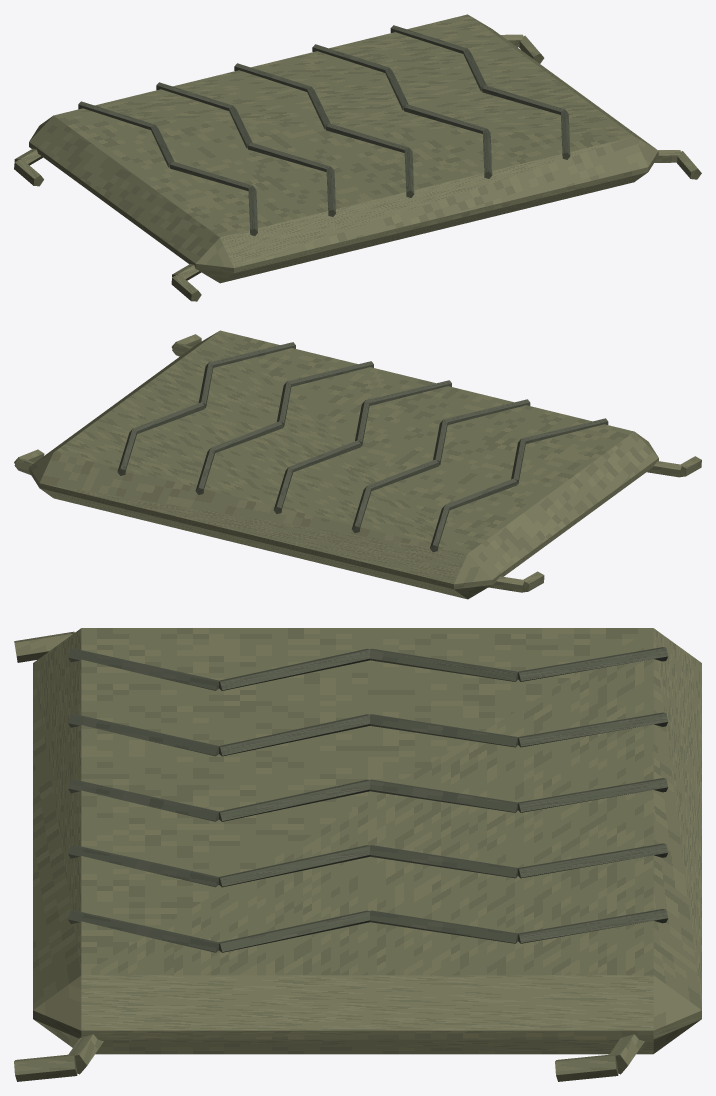
The model's file is military_poncho_liner.glb.
3 views of the same model, one above another, from view 1: azimuth 30°, elevation 25°; view 2: azimuth 150°, elevation 25°; view 3: azimuth 270°, elevation 25° (orthographic). The views are drawn at different scales.
Parts seen in each view (by area): view 1: block_folded quilted liner, block_quilt stitch 2 (×5), block_quilt stitch 0 (×5); view 2: block_folded quilted liner, block_quilt stitch 3 (×5), block_quilt stitch 1 (×5); view 3: block_folded quilted liner, block_quilt stitch 2 (×5), block_quilt stitch 1 (×5), block_quilt stitch 0 (×5), block_quilt stitch 3 (×5), block_liner attachment tie 1 (×3), block_liner attachment tie 0 (×2).
Boxes of the visible parts, left/top/right/bottom form: block_folded quilted liner: left=29, top=14, right=658, bottom=283; block_quilt stitch 2 (×5): left=170, top=85, right=565, bottom=191; block_quilt stitch 0 (×5): left=78, top=25, right=467, bottom=129; block_folded quilted liner: left=29, top=330, right=658, bottom=599; block_quilt stitch 3 (×5): left=209, top=342, right=608, bottom=443; block_quilt stitch 1 (×5): left=133, top=402, right=517, bottom=510; block_folded quilted liner: left=33, top=628, right=701, bottom=1054; block_quilt stitch 2 (×5): left=219, top=649, right=370, bottom=952; block_quilt stitch 1 (×5): left=369, top=648, right=517, bottom=943; block_quilt stitch 0 (×5): left=518, top=647, right=668, bottom=943; block_quilt stitch 3 (×5): left=68, top=648, right=218, bottom=952; block_liner attachment tie 1 (×3): left=14, top=631, right=618, bottom=1081; block_liner attachment tie 0 (×2): left=68, top=1034, right=644, bottom=1074.
Bounding box in the file's own units: 0.754 × 0.072 × 0.5081.
1 material, 1 textured.
